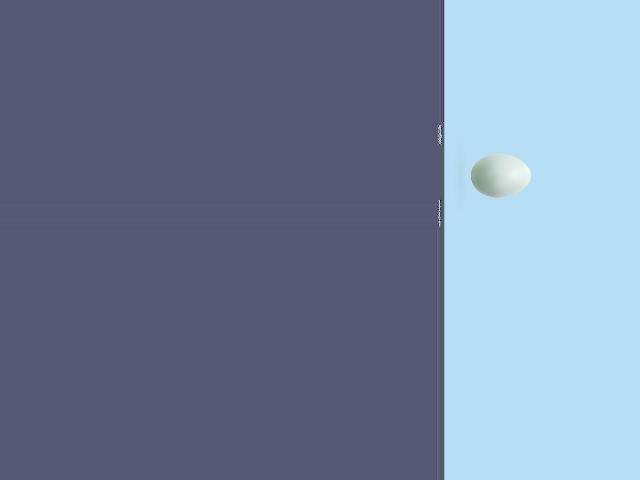egg: (471, 154, 531, 198)
